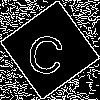C: (25, 25, 68, 76)
